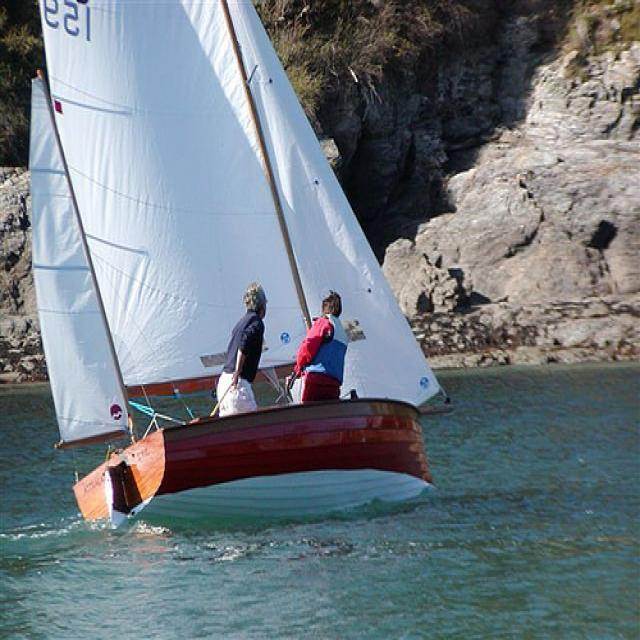Ship: (12, 1, 443, 529)
